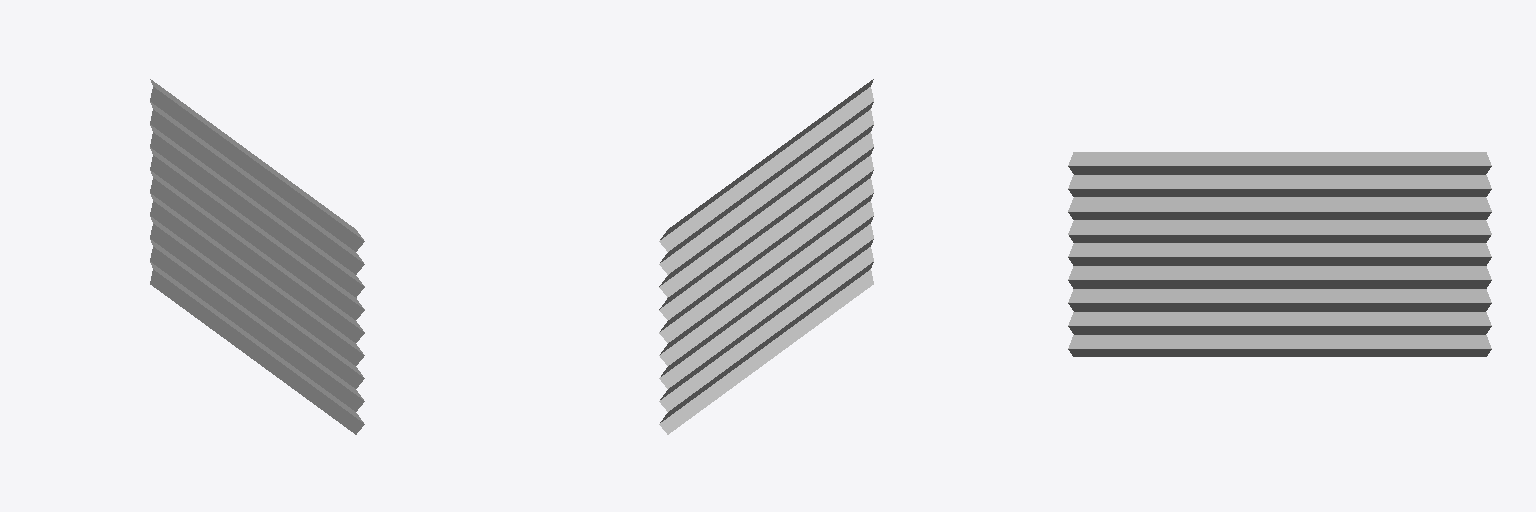
File: Panel_Low.obj
The picture shows the model from 3 angles: view 1: azimuth 30°, elevation 25°; view 2: azimuth 150°, elevation 25°; view 3: azimuth 270°, elevation 25°; orthographic projection.
Visible parts, largest first — view 1: Low; view 2: Low; view 3: Low.
Boxes of the visible parts, x1,y1,x2,y2 form: Low: [150, 79, 364, 434]; Low: [659, 79, 873, 434]; Low: [1068, 152, 1491, 356].
Bounding box in the file's own units: 0.0613 × 2 × 3.74.